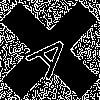A: (25, 25, 82, 82)
